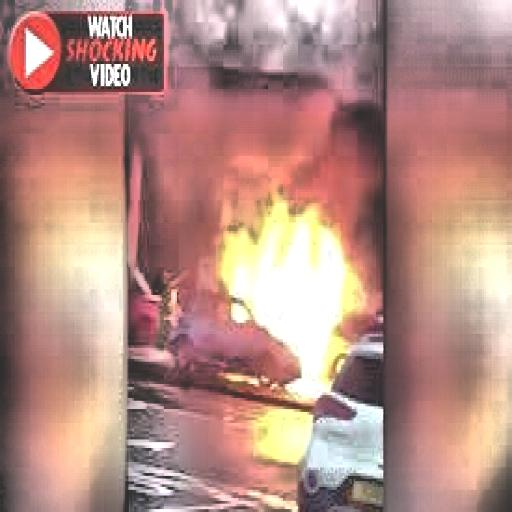fire: (221, 192, 365, 401)
